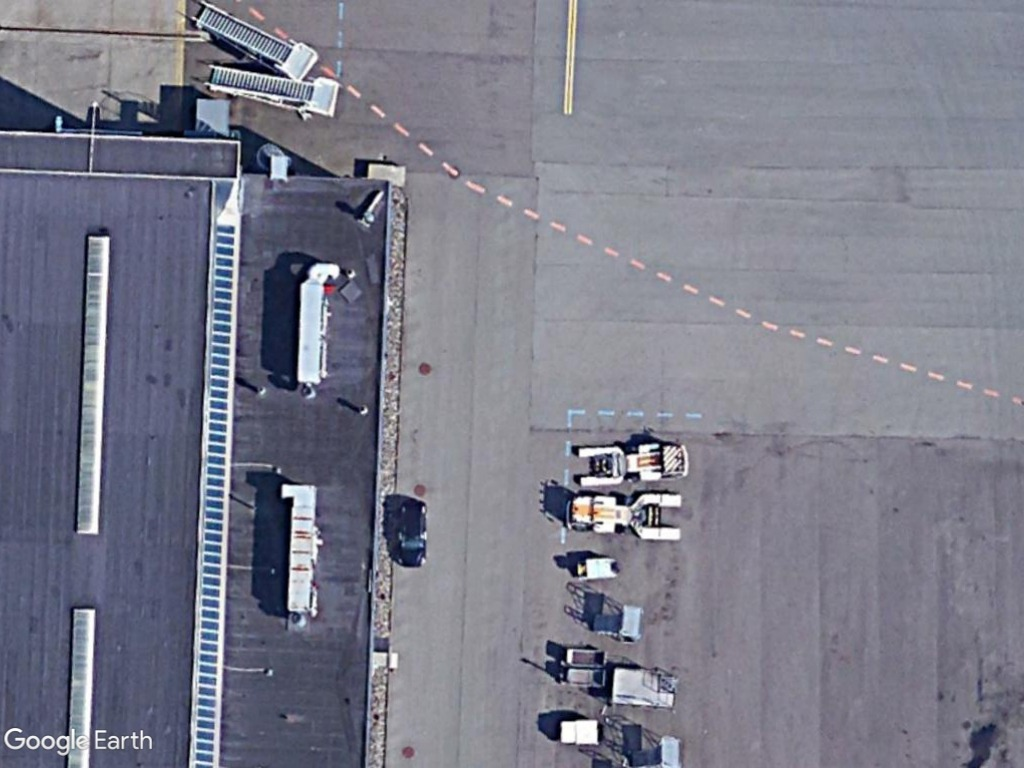car: (393, 495, 432, 571)
pushbacktruck: (564, 483, 690, 545), (573, 438, 695, 493)
stairtruck: (190, 2, 319, 83), (202, 61, 350, 127)
